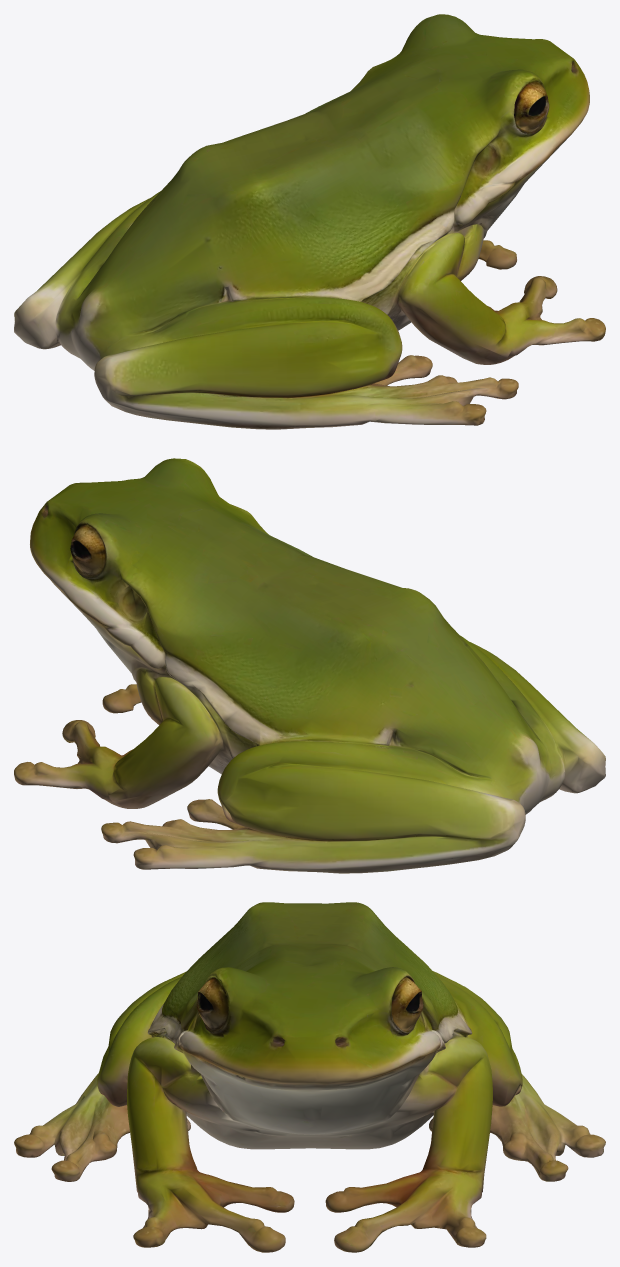
The model's file is green-tree-frog.glb.
3 views of the same model, one above another, from view 1: azimuth 30°, elevation 25°; view 2: azimuth 150°, elevation 25°; view 3: azimuth 270°, elevation 25° (orthographic). The views are drawn at different scales.
Parts seen in each view (by area): view 1: material; view 2: material; view 3: material.
Part boxes in pixels (bbox=[...]): material: bbox=[14, 14, 605, 429]; material: bbox=[14, 458, 605, 873]; material: bbox=[14, 902, 605, 1252].
Size of the model in its own units: 1.09 by 0.4972 by 1.03.
Materials: 1 (1 with a texture image).
